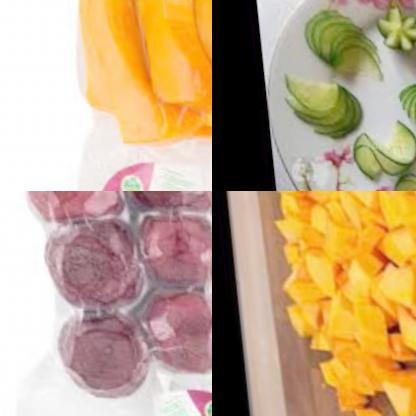beet: (37, 207, 150, 317), (45, 301, 149, 404), (133, 208, 212, 302), (131, 291, 212, 382), (18, 191, 130, 227), (123, 191, 212, 232)
cucumber: (277, 69, 372, 144), (297, 2, 382, 72), (338, 120, 416, 179), (368, 0, 416, 66), (386, 51, 416, 142), (366, 153, 416, 191)
pumpkin: (245, 191, 416, 416), (52, 0, 212, 171)
